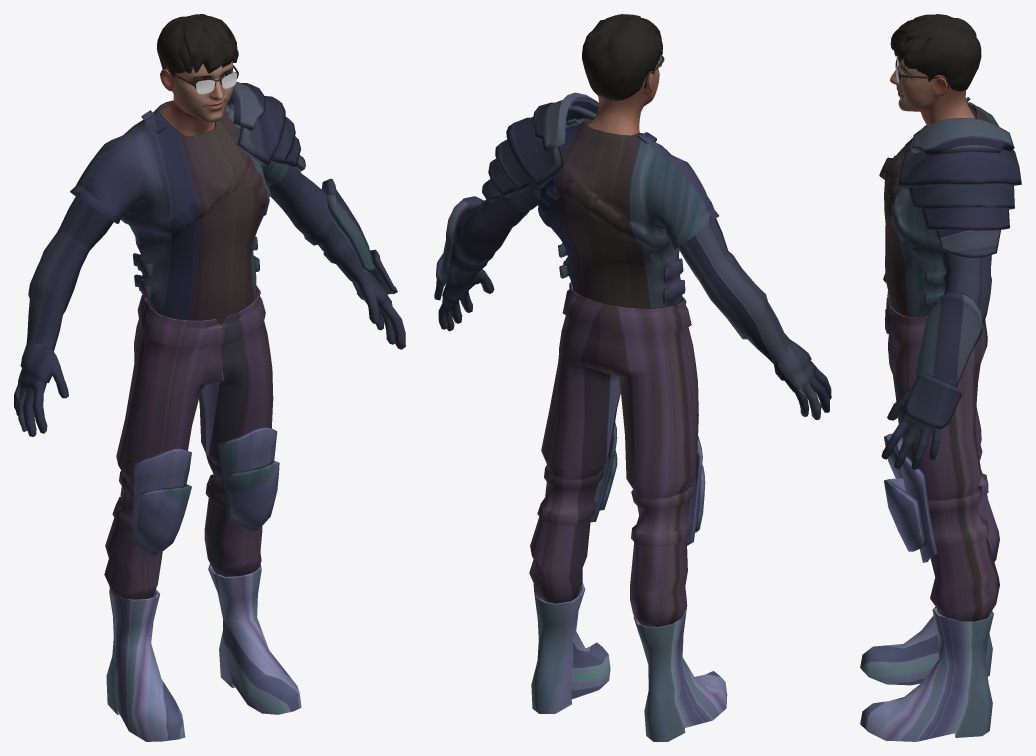
The model's file is vishwajit (1).gltf.
The picture shows the model from 3 angles, left to right: view 1: azimuth 30°, elevation 25°; view 2: azimuth 150°, elevation 25°; view 3: azimuth 270°, elevation 25°; orthographic projection.
Parts seen in each view (by area): view 1: Wolf3D_Outfit_Top, Wolf3D_Outfit_Bottom, Wolf3D_Outfit_Footwear, Wolf3D_Hair, Wolf3D_Head; view 2: Wolf3D_Outfit_Top, Wolf3D_Outfit_Bottom, Wolf3D_Outfit_Footwear, Wolf3D_Hair, Wolf3D_Head; view 3: Wolf3D_Outfit_Top, Wolf3D_Outfit_Bottom, Wolf3D_Outfit_Footwear, Wolf3D_Hair, Wolf3D_Head.
Boxes of the visible parts, left/top/right/bottom form: Wolf3D_Outfit_Top: left=14, top=81, right=405, bottom=436; Wolf3D_Outfit_Bottom: left=104, top=285, right=279, bottom=599; Wolf3D_Outfit_Footwear: left=106, top=563, right=301, bottom=741; Wolf3D_Hair: left=157, top=14, right=238, bottom=77; Wolf3D_Head: left=160, top=61, right=233, bottom=136; Wolf3D_Outfit_Top: left=434, top=92, right=831, bottom=419; Wolf3D_Outfit_Bottom: left=529, top=282, right=705, bottom=626; Wolf3D_Outfit_Footwear: left=531, top=583, right=727, bottom=741; Wolf3D_Hair: left=582, top=14, right=662, bottom=100; Wolf3D_Head: left=587, top=61, right=659, bottom=135; Wolf3D_Outfit_Top: left=879, top=97, right=1021, bottom=469; Wolf3D_Outfit_Bottom: left=884, top=291, right=999, bottom=621; Wolf3D_Outfit_Footwear: left=860, top=606, right=993, bottom=741; Wolf3D_Hair: left=890, top=14, right=981, bottom=91; Wolf3D_Head: left=890, top=56, right=975, bottom=125.
Size of the model in its own units: 1.07 by 1.85 by 0.3964.
9 materials, 9 textured.
